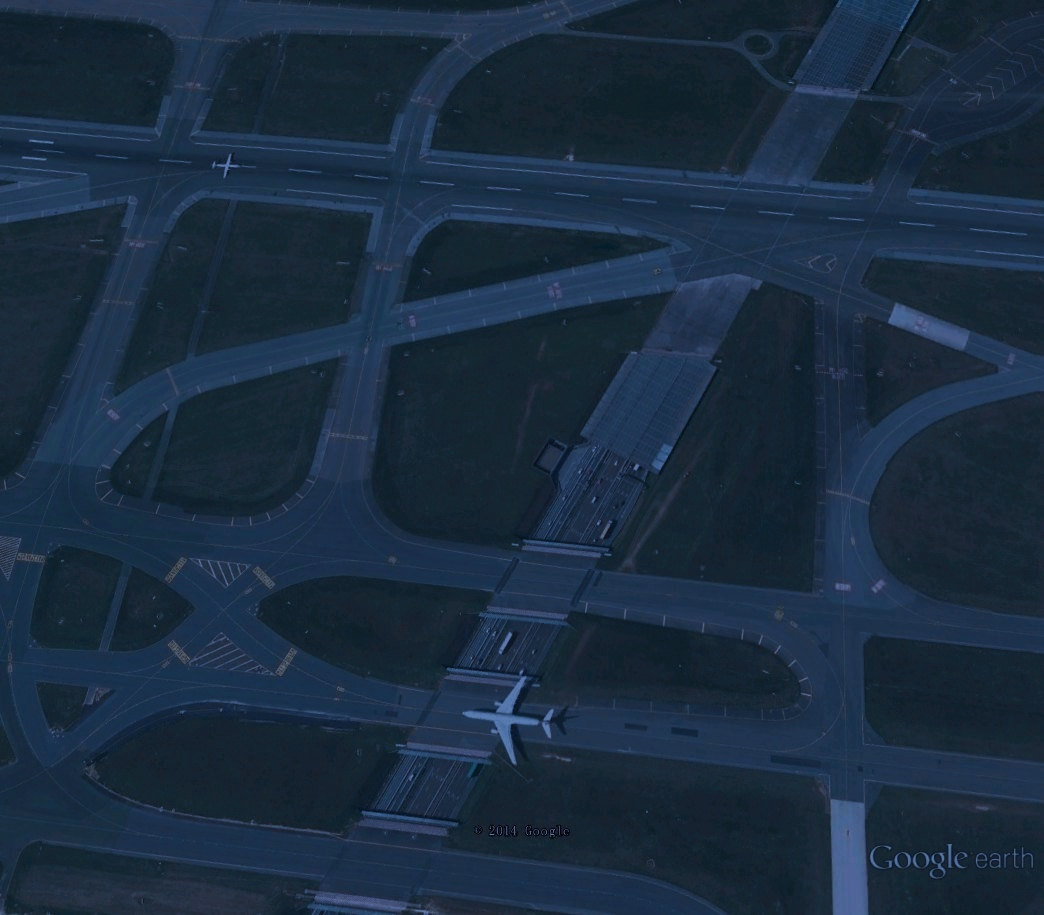aircraft: (457, 672, 559, 772), (205, 150, 246, 183)
